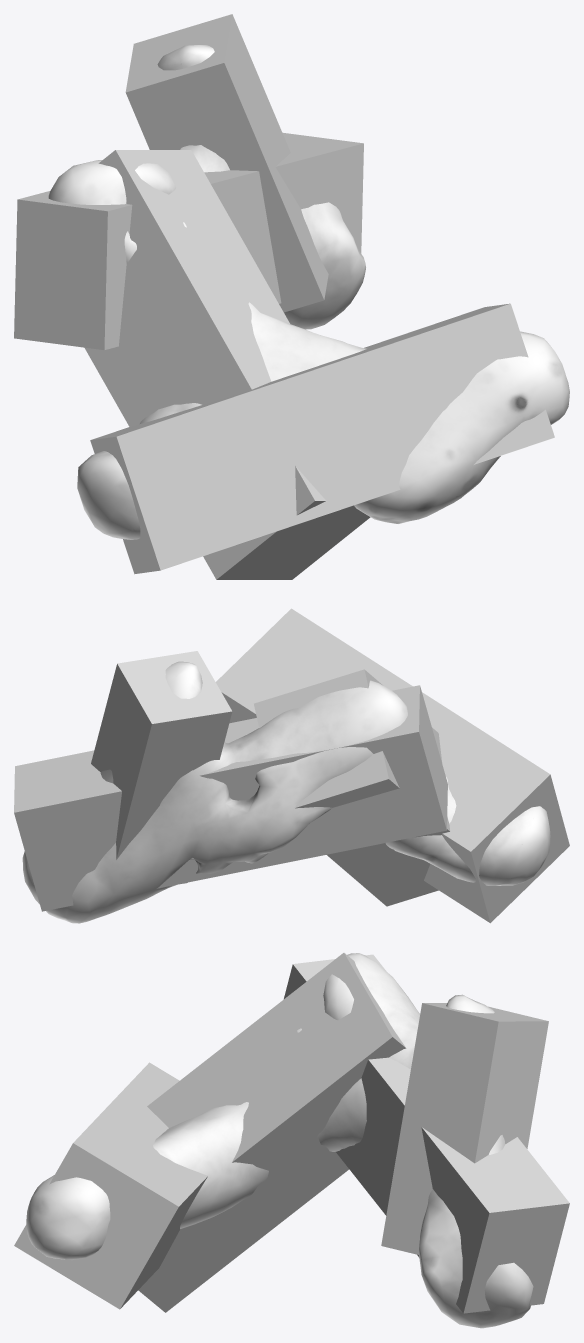
The model's file is Coral_11.glb.
3 renders of one model, top to bottom at view 1: azimuth 30°, elevation 25°; view 2: azimuth 150°, elevation 25°; view 3: azimuth 270°, elevation 25°, orthographic. The views are drawn at different scales.
Parts seen in each view (by area): view 1: Cube.032, Cube.031, A03612_Koralle11.001, Cube.029, Cube.030; view 2: A03612_Koralle11.001, Cube.029, Cube.032, Cube.030, Cube.031; view 3: Cube.031, A03612_Koralle11.001, Cube.029, Cube.030, Cube.032.
Part boxes in pixels (<box>): Cube.032: <box>90,303,554,574</box>; Cube.031: <box>84,150,370,579</box>; A03612_Koralle11.001: <box>48,45,569,539</box>; Cube.029: <box>14,132,363,350</box>; Cube.030: <box>125,14,328,312</box>; A03612_Koralle11.001: <box>22,661,550,923</box>; Cube.029: <box>14,685,447,911</box>; Cube.032: <box>216,608,569,923</box>; Cube.030: <box>91,651,232,883</box>; Cube.031: <box>254,669,450,906</box>; Cube.031: <box>138,953,406,1312</box>; A03612_Koralle11.001: <box>26,953,533,1328</box>; Cube.029: <box>284,954,569,1313</box>; Cube.030: <box>381,1003,548,1254</box>; Cube.032: <box>14,1062,207,1309</box>.
Size of the model in its own units: 0.2961 by 0.2472 by 0.359.
1 material, 1 textured.
